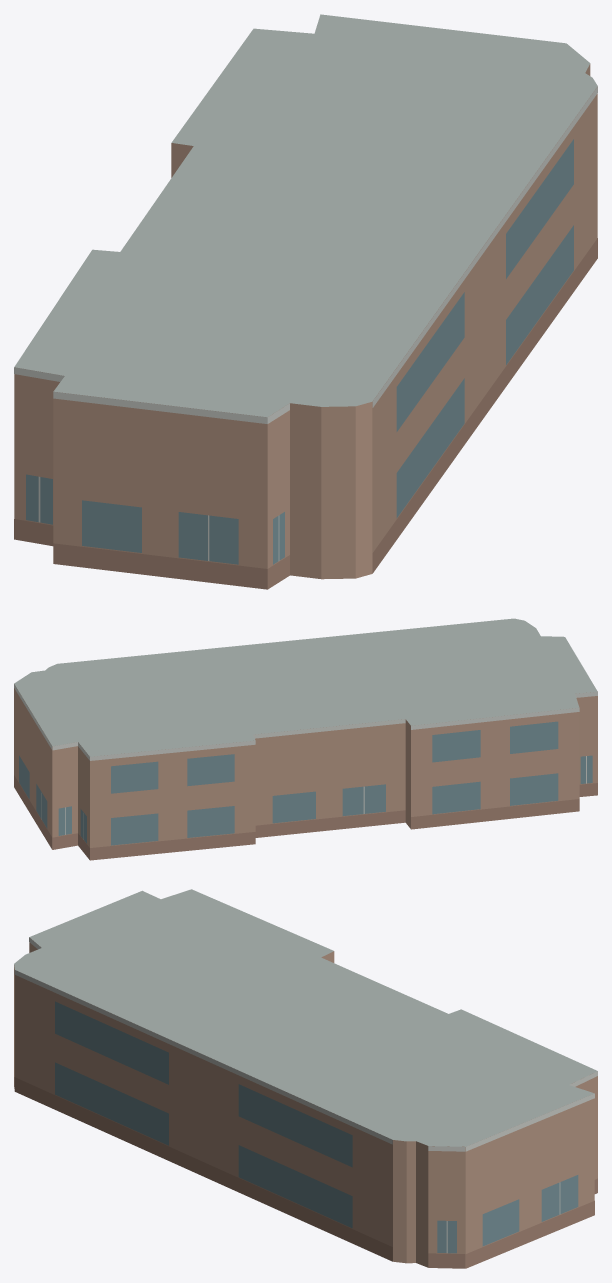
Rendered from survey-upis-32836500.glb.
3 renders of one model, top to bottom at view 1: azimuth 30°, elevation 25°; view 2: azimuth 150°, elevation 25°; view 3: azimuth 270°, elevation 25°, orthographic. The views are drawn at different scales.
Parts seen in each view (by area): view 1: survey-upis-32836500.tmp; view 2: survey-upis-32836500.tmp; view 3: survey-upis-32836500.tmp.
Part boxes in pixels (left/top/right/bottom): survey-upis-32836500.tmp: left=14, top=14, right=597, bottom=589; survey-upis-32836500.tmp: left=14, top=618, right=597, bottom=860; survey-upis-32836500.tmp: left=14, top=889, right=597, bottom=1268.
Size of the model in its own units: 27.66 by 6.1 by 26.49.
